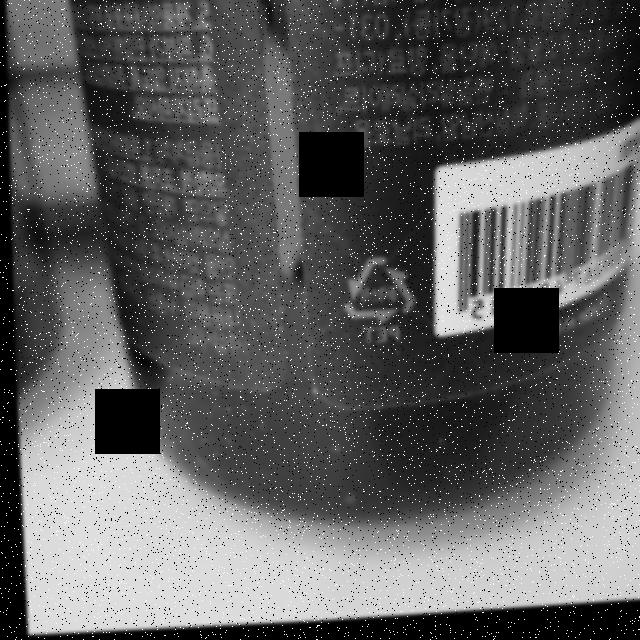Plastic: (336, 256, 417, 335)
